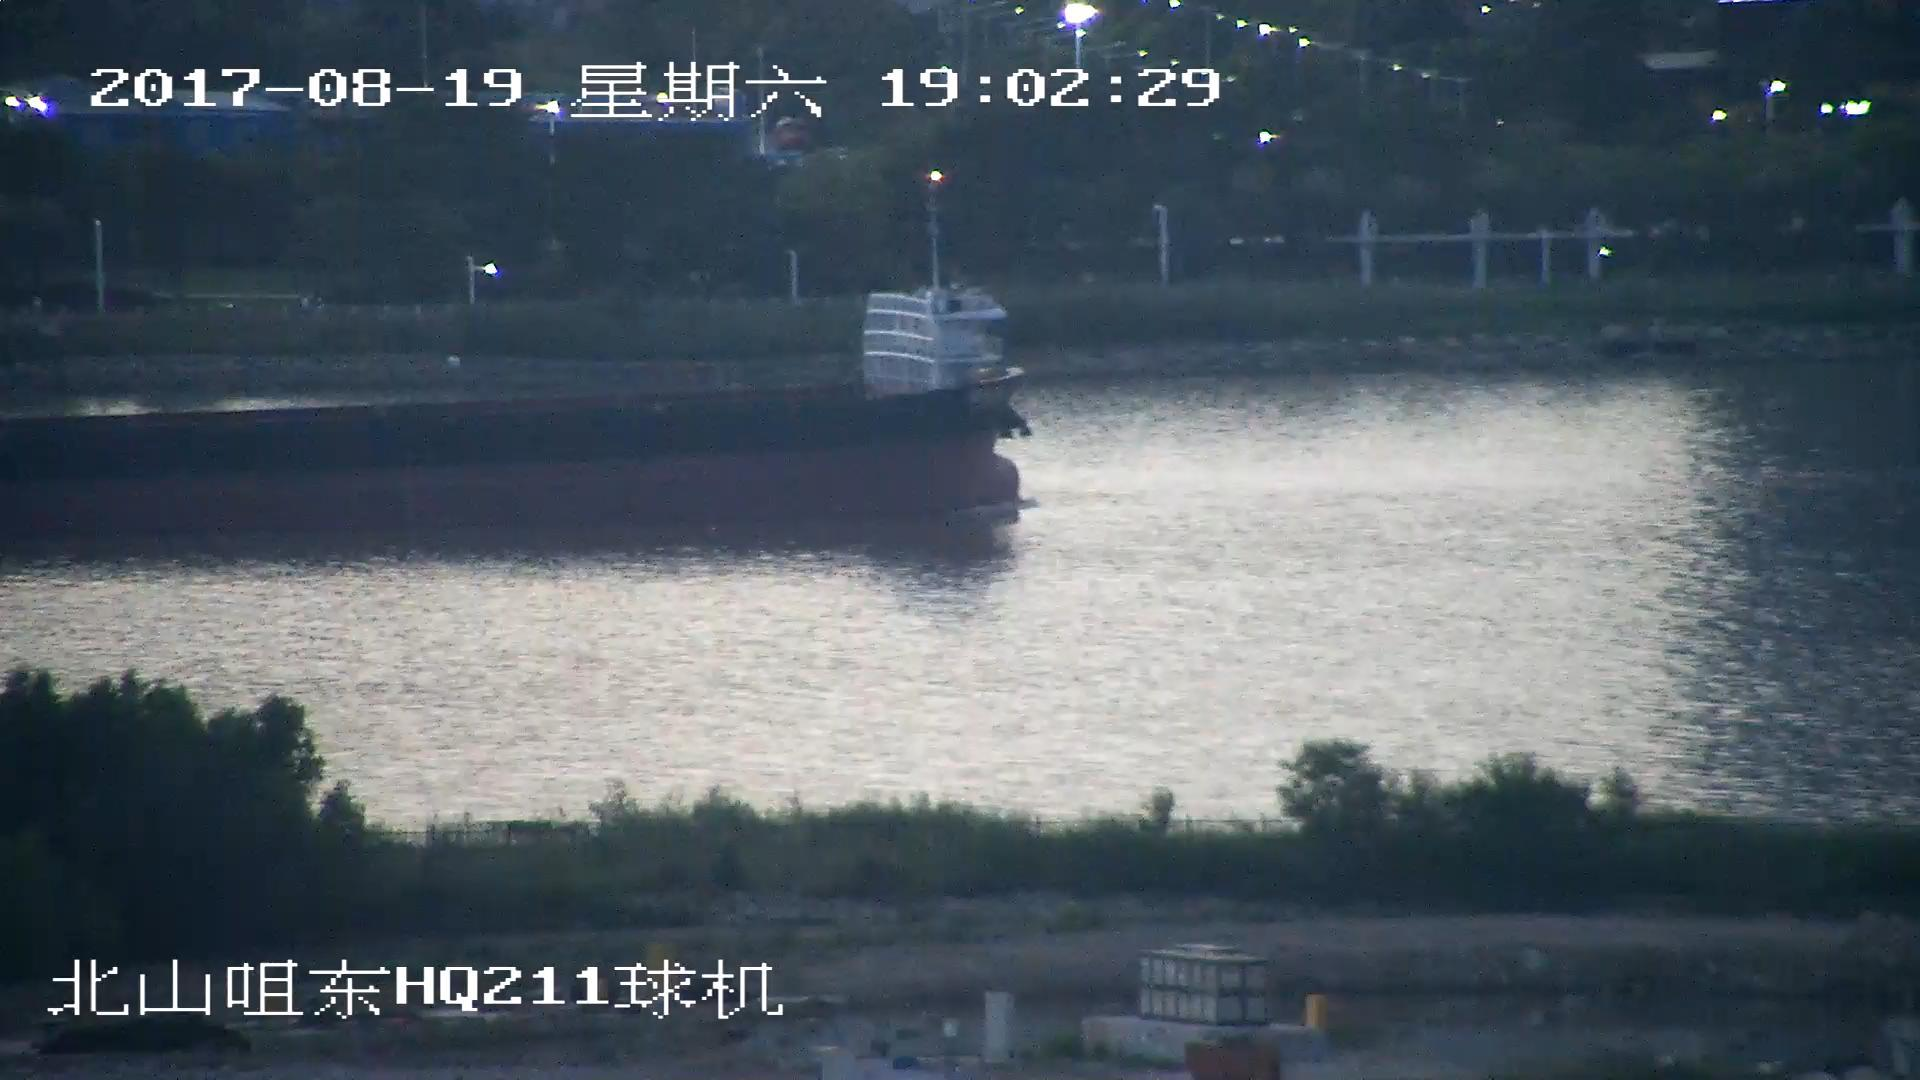Ship: (3, 297, 1033, 525)
